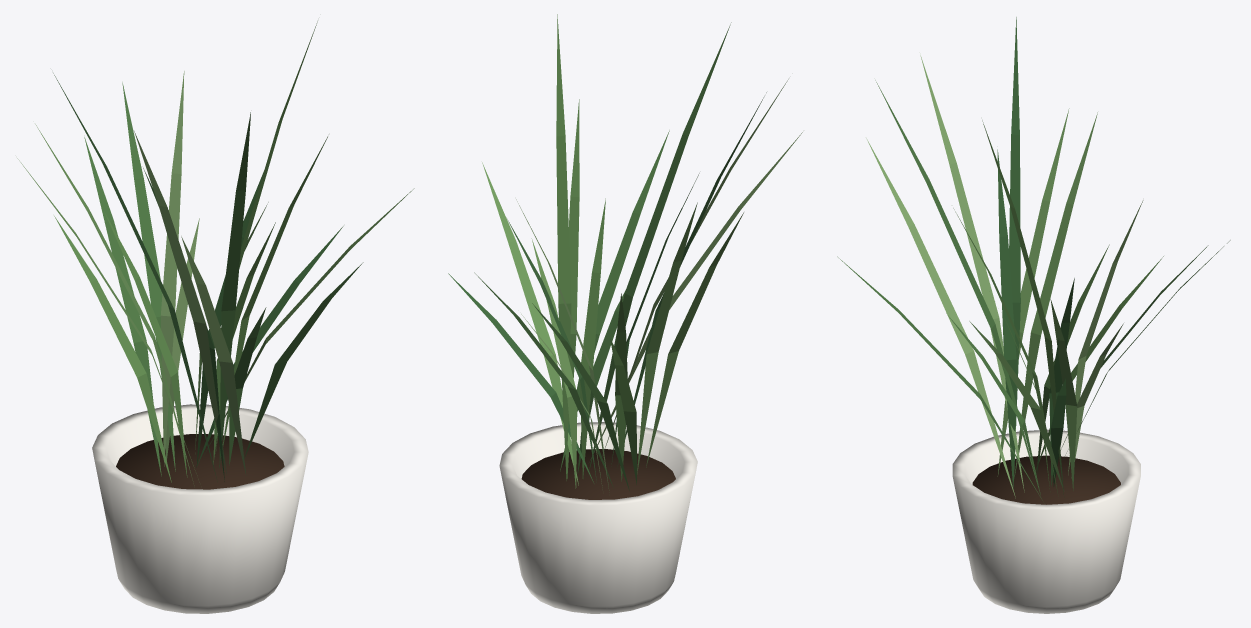
The model's file is i_plant_4.glb.
3 renders of one model, left to right at view 1: azimuth 30°, elevation 25°; view 2: azimuth 150°, elevation 25°; view 3: azimuth 270°, elevation 25°, orthographic. The views are drawn at different scales.
Visible parts, largest first — view 1: o, o.001, o.006, o.022, o.021, o.017, o.007, o.011, o.018, o.008, o.020, o.002 (+11 smaller); view 2: o, o.001, o.003, o.022, o.014, o.019, o.013, o.023, o.002, o.009, o.004, o.015 (+10 smaller); view 3: o, o.001, o.020, o.021, o.011, o.010, o.019, o.009, o.022, o.003, o.004, o.006 (+9 smaller).
Part boxes in pixels (<box>): o: <box>92,404,308,613</box>; o.001: <box>116,434,284,489</box>; o.006: <box>160,71,184,466</box>; o.022: <box>219,112,250,468</box>; o.021: <box>134,131,226,474</box>; o.017: <box>122,82,175,471</box>; o.007: <box>84,137,161,476</box>; o.011: <box>181,236,246,475</box>; o.018: <box>54,216,171,482</box>; o.008: <box>104,211,187,477</box>; o.020: <box>53,73,217,481</box>; o.002: <box>244,262,363,458</box>; o: <box>499,422,697,613</box>; o.001: <box>521,449,675,499</box>; o.003: <box>556,14,571,480</box>; o.022: <box>589,22,731,470</box>; o.014: <box>482,162,578,485</box>; o.019: <box>637,202,697,474</box>; o.013: <box>567,99,579,478</box>; o.023: <box>580,198,605,478</box>; o.002: <box>560,130,669,471</box>; o.009: <box>646,212,743,467</box>; o.004: <box>531,238,577,488</box>; o.015: <box>448,273,594,483</box>; o: <box>952,429,1140,613</box>; o.001: <box>972,455,1120,504</box>; o.020: <box>1009,17,1020,486</box>; o.021: <box>920,55,1024,492</box>; o.011: <box>866,138,1015,498</box>; o.010: <box>997,149,1016,488</box>; o.019: <box>1014,112,1097,476</box>; o.009: <box>997,108,1069,476</box>; o.022: <box>875,80,1039,490</box>; o.003: <box>982,120,1064,497</box>; o.004: <box>1050,299,1077,490</box>; o.006: <box>1068,200,1143,475</box>.
Bounding box in the file's own units: 0.3314 × 0.526 × 0.3807.
